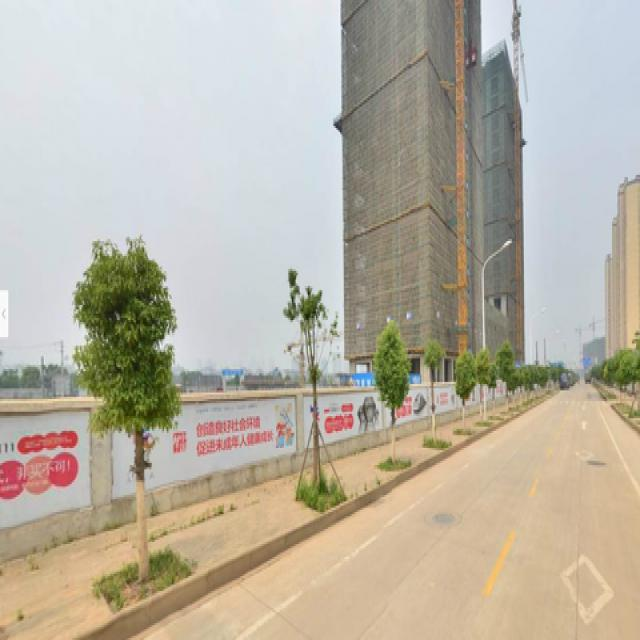cinn: (101, 239, 180, 555), (290, 284, 342, 480), (376, 326, 409, 476), (424, 335, 448, 444), (458, 346, 473, 420)
